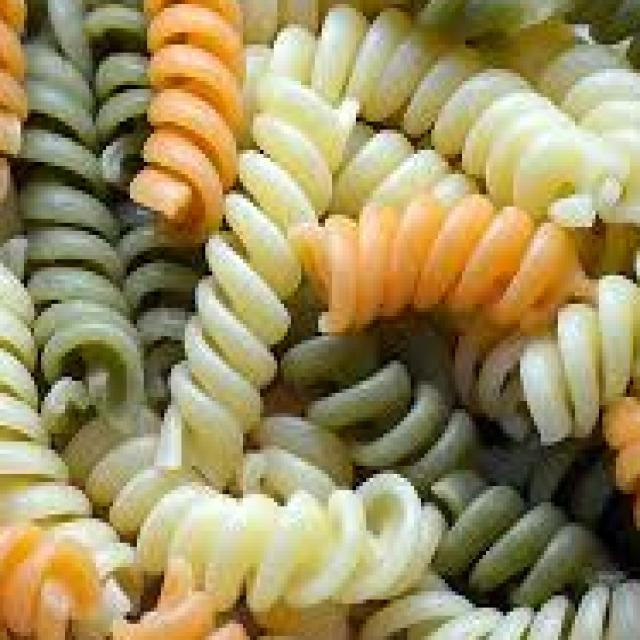inorganic: (6, 1, 631, 633)
